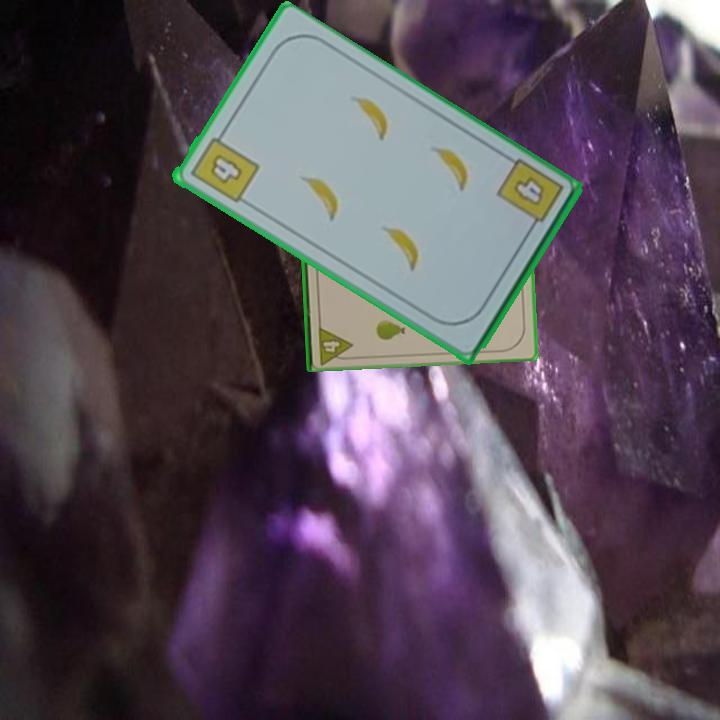4b: (185, 126, 262, 206), (492, 155, 566, 237)
4p: (315, 322, 355, 366)
